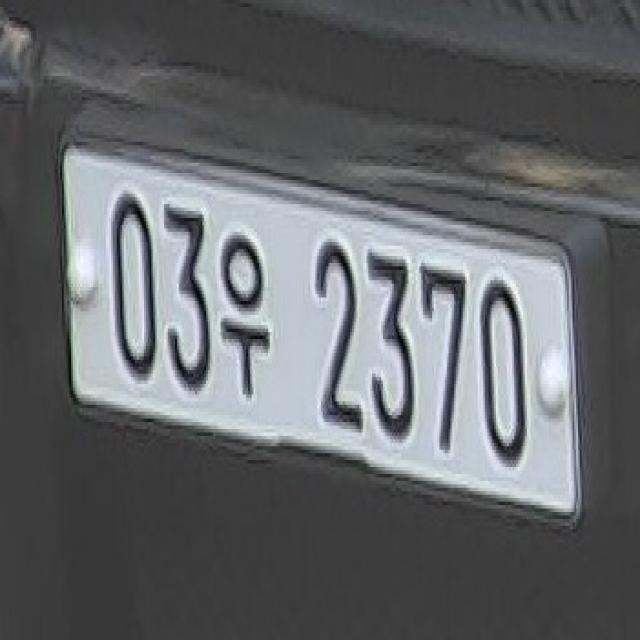0: (96, 168, 158, 398), (477, 273, 537, 472)
2: (312, 232, 364, 448)
3: (365, 237, 420, 463), (158, 185, 212, 412)
7: (419, 258, 471, 470)
license_plate: (49, 127, 606, 559)
u: (214, 217, 276, 414)
